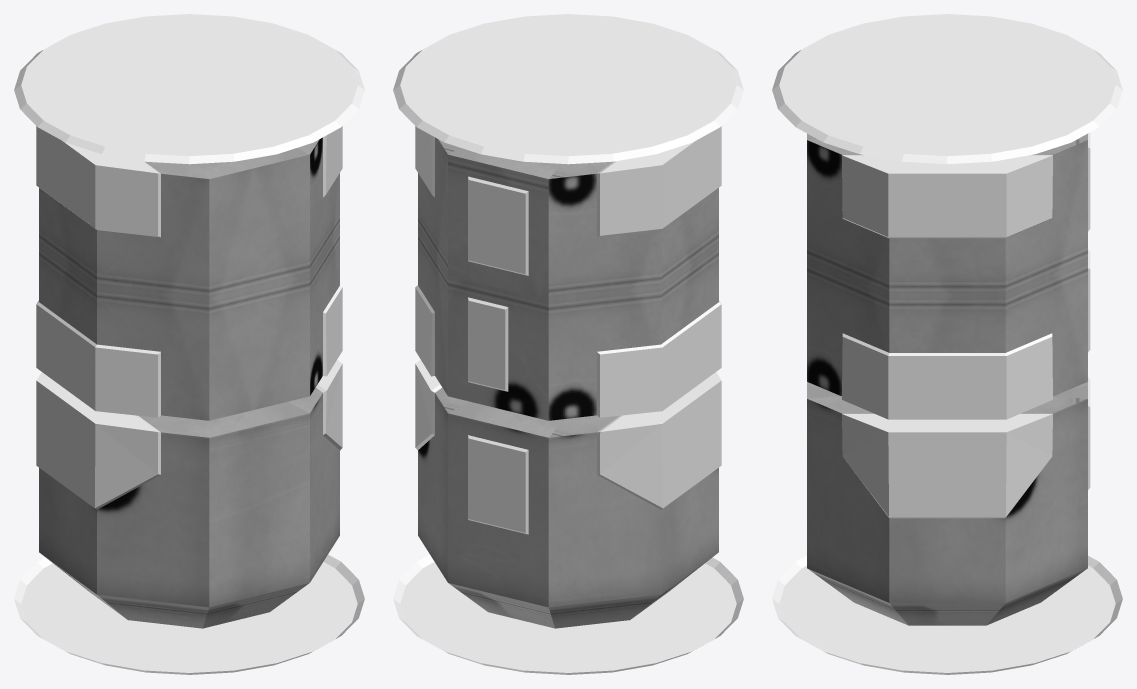
The model's file is mol_iva_1.obj.
3 renders of one model, left to right at view 1: azimuth 30°, elevation 25°; view 2: azimuth 150°, elevation 25°; view 3: azimuth 270°, elevation 25°, orthographic.
Visible parts, largest first — view 1: i1, im1; view 2: im1, i1; view 3: im1, i1.
Part boxes in pixels (bbox=[...]): i1: bbox=[39, 137, 339, 628]; im1: bbox=[14, 14, 364, 674]; im1: bbox=[393, 14, 743, 674]; i1: bbox=[418, 137, 718, 628]; im1: bbox=[772, 14, 1122, 674]; i1: bbox=[807, 133, 1087, 625].
Size of the model in its own units: 1.88 by 3.06 by 1.87.
